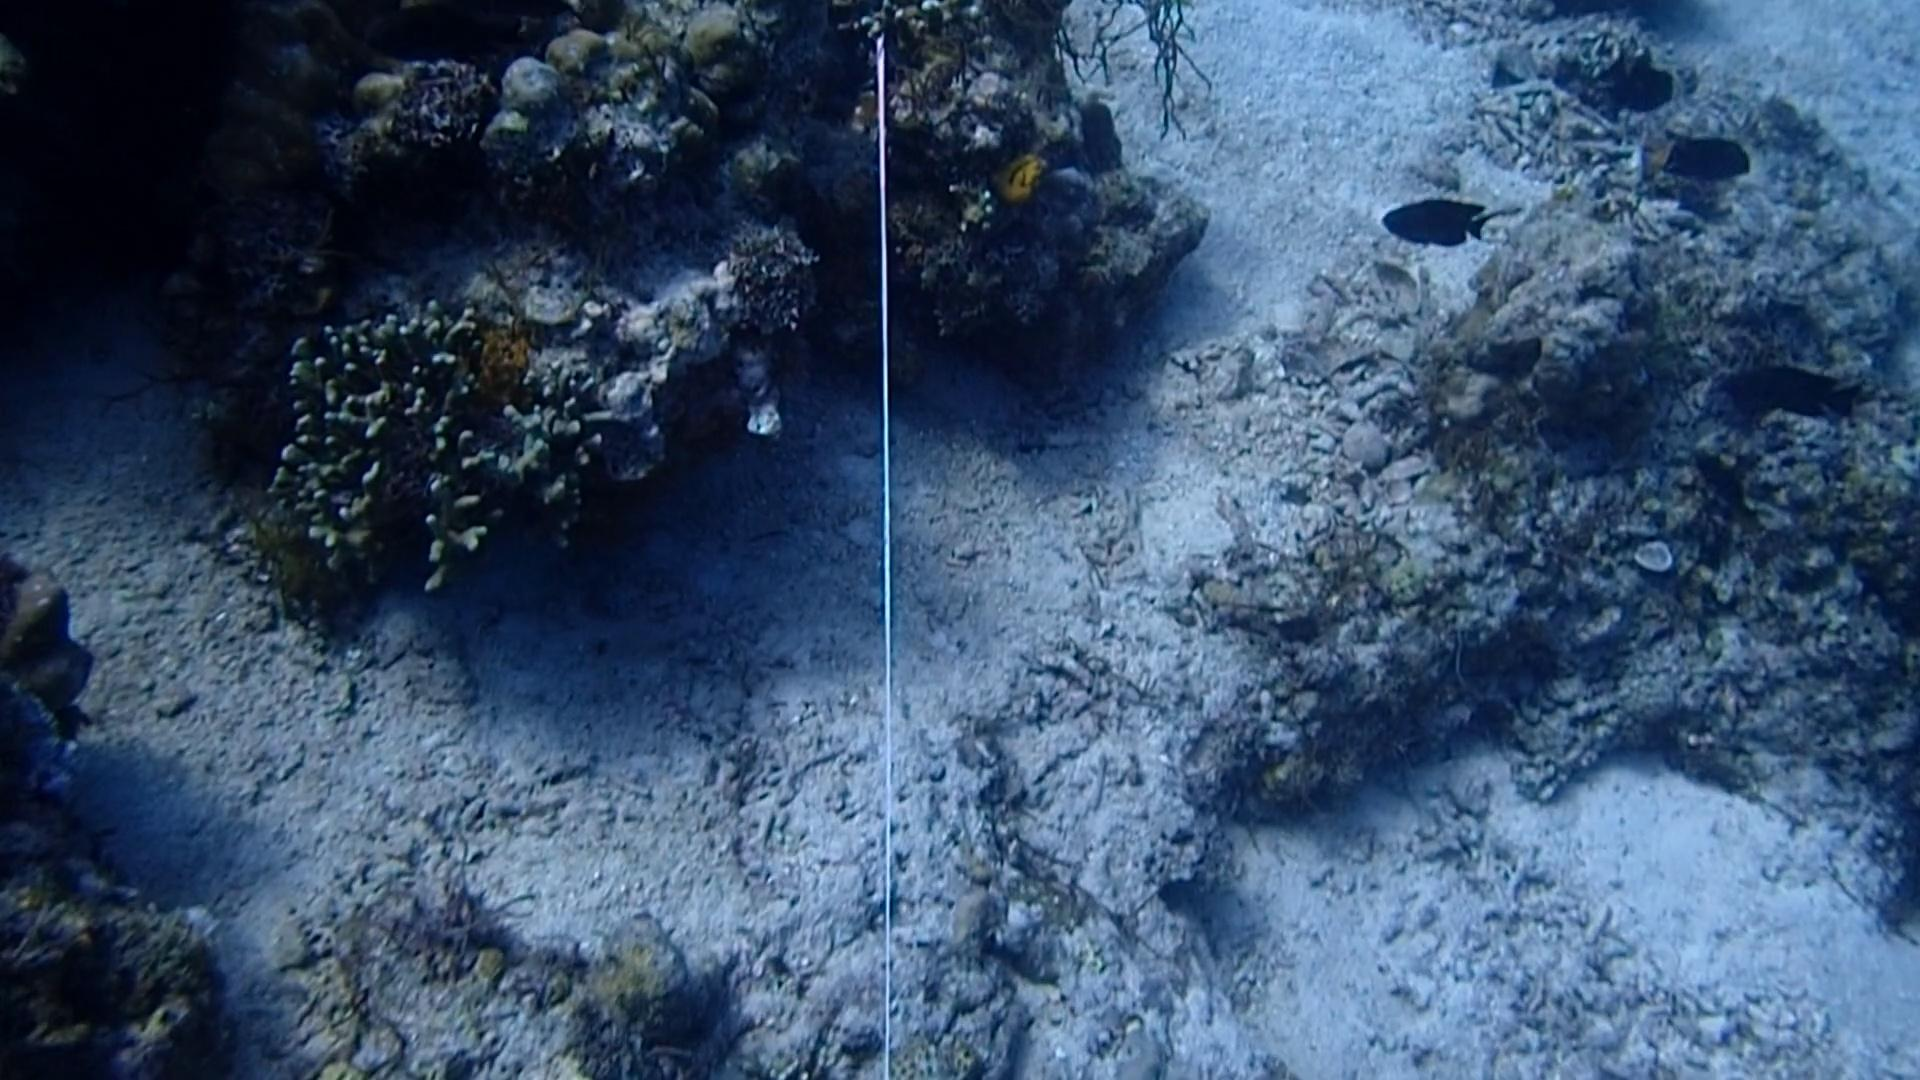Dark Fish: (1708, 332, 1865, 427), (1680, 436, 1770, 539), (1654, 125, 1763, 198), (1378, 186, 1493, 253), (1592, 41, 1685, 116)
